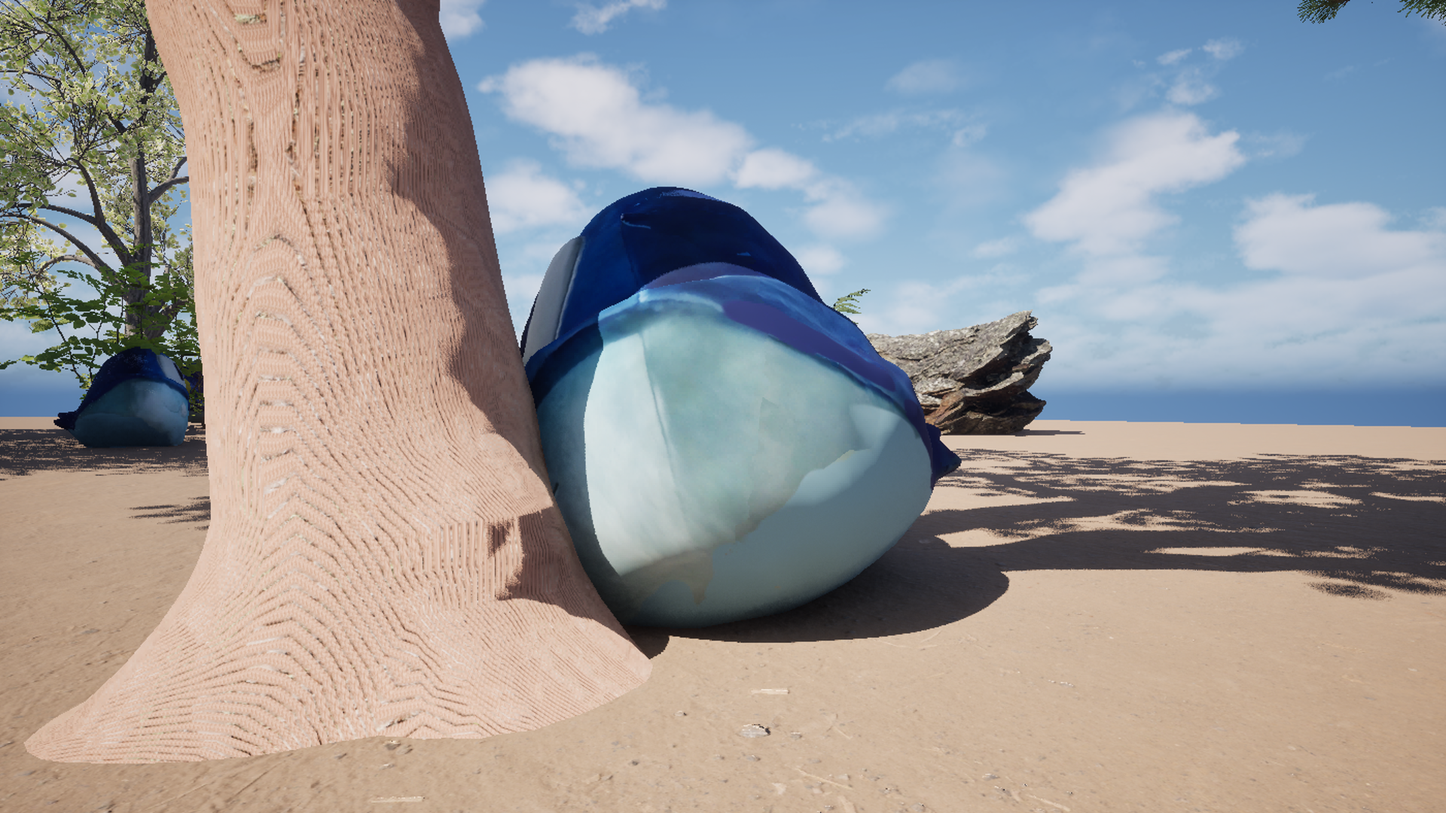Piplup: (356, 0, 1339, 813)
